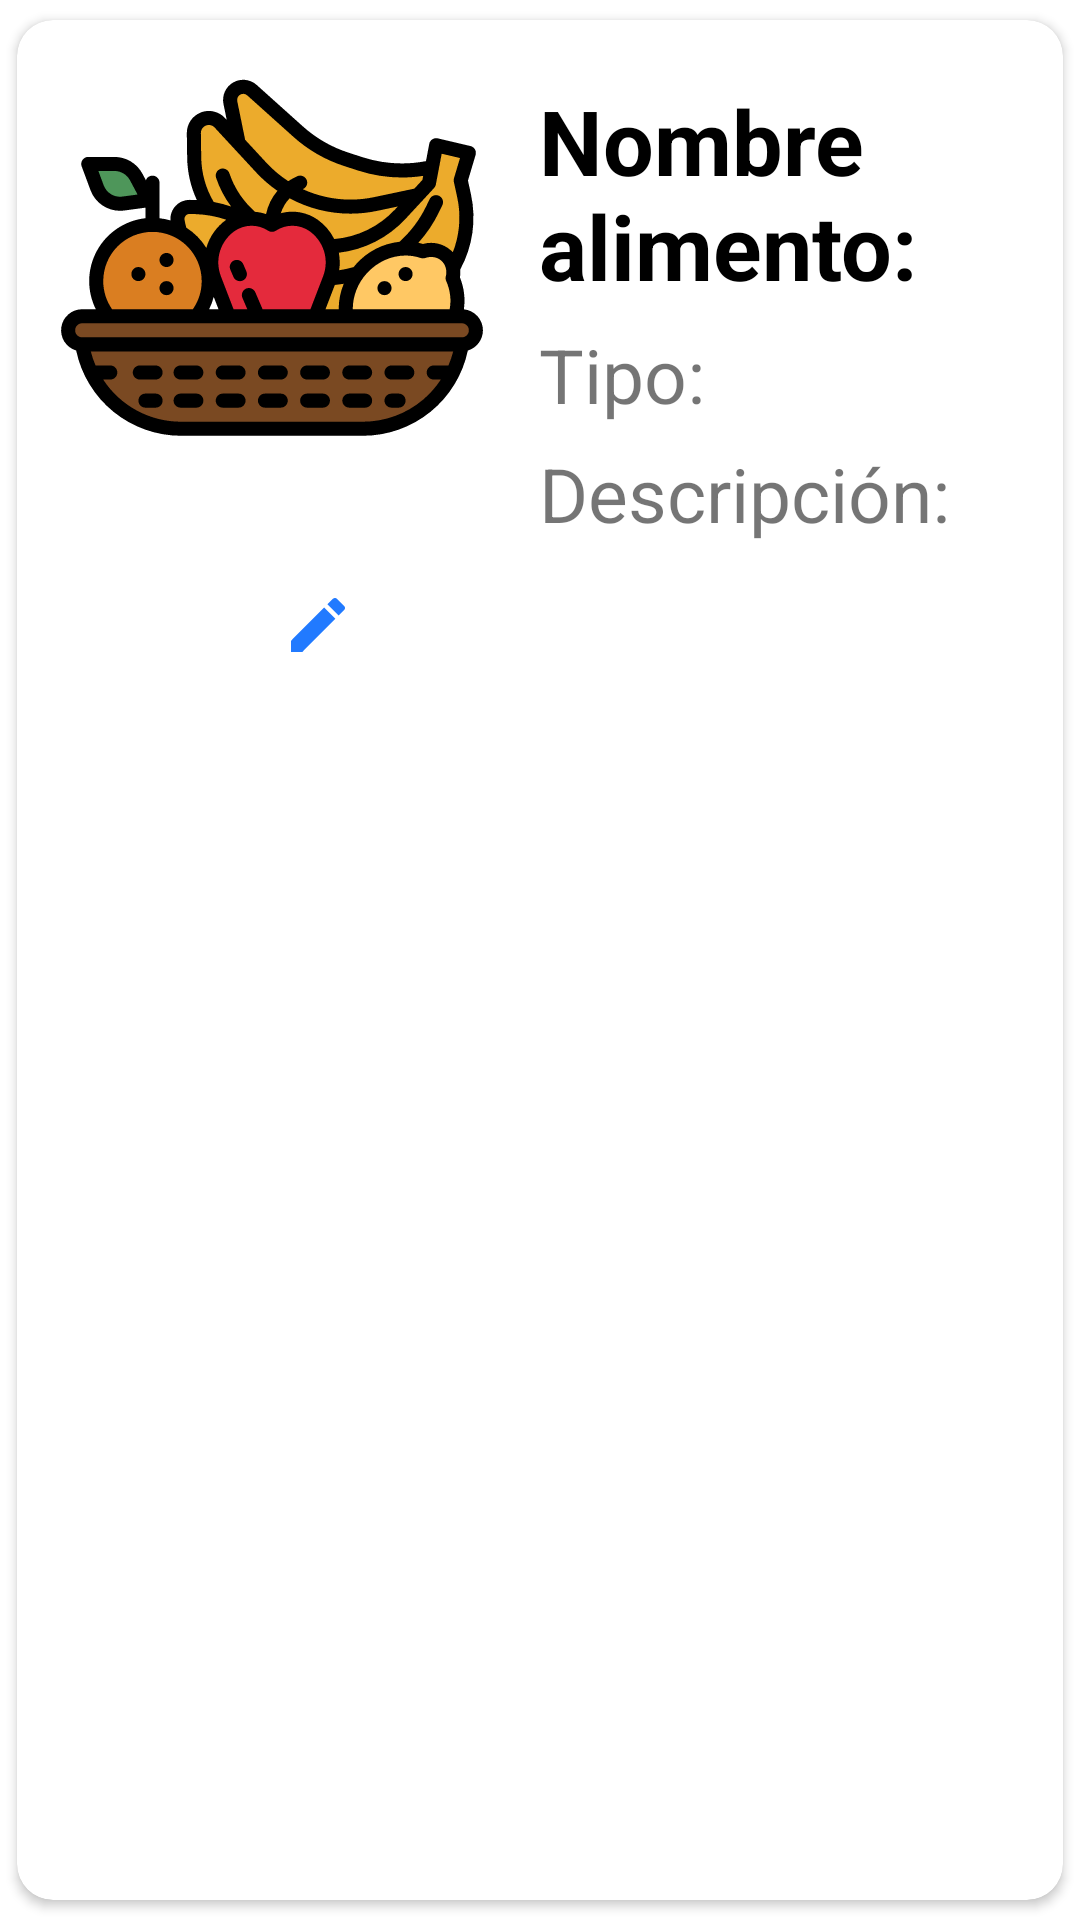

Icon click points for this 1080x1920 phone screenshot, format (x=x, y=y):
edit: (x=318, y=625)
